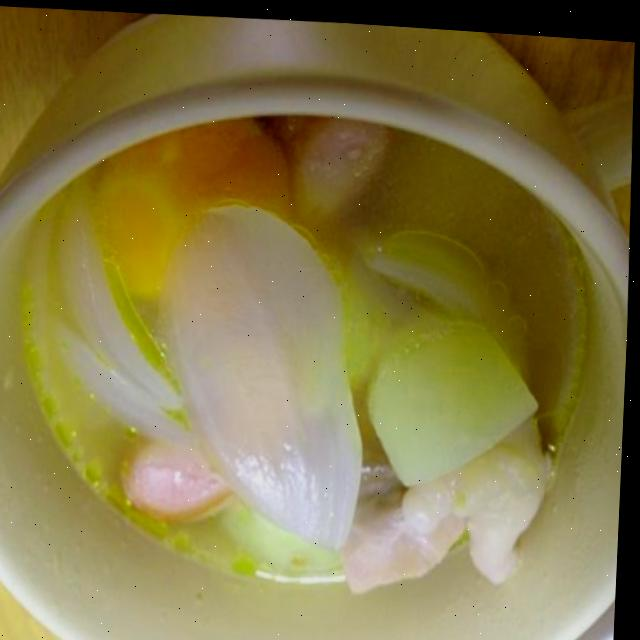汤锅炖物: (0, 5, 629, 640)
